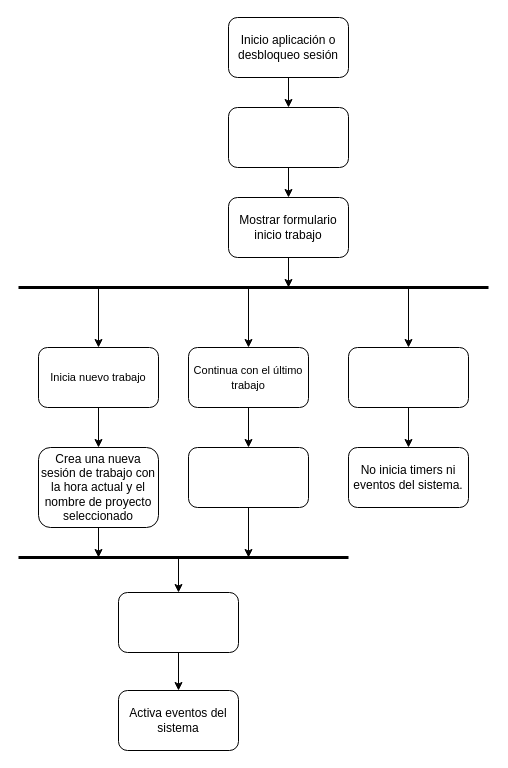
The diagram is 508 pixels wide and 768 high, and some of its shapes have lost their labels. Here are the shapes that lost their labels. From the top down, the box of each, then its label:
(228, 106, 348, 168): Desactiva eventos y timers
(348, 346, 468, 408): No inicia ningún trabajo
(188, 446, 308, 508): Actualiza el tiempo fin del ultimo trabajo
(118, 592, 238, 652): Activa timer de tiempo fin
